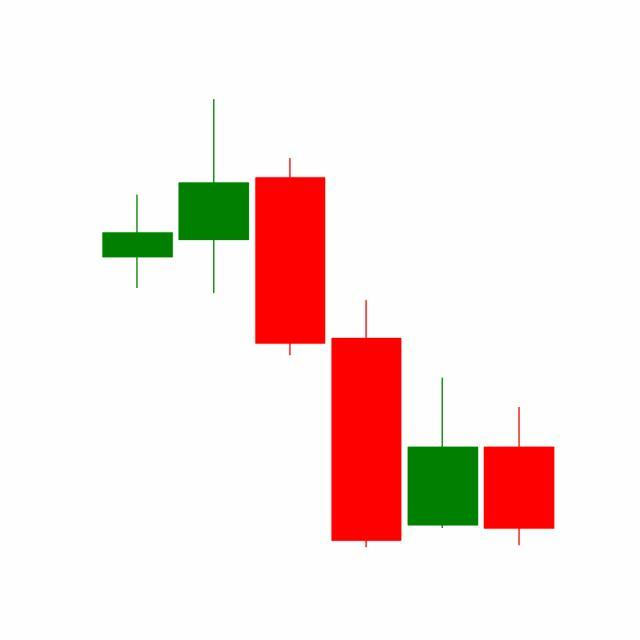Hikkake Pattern: (175, 99, 555, 549)
